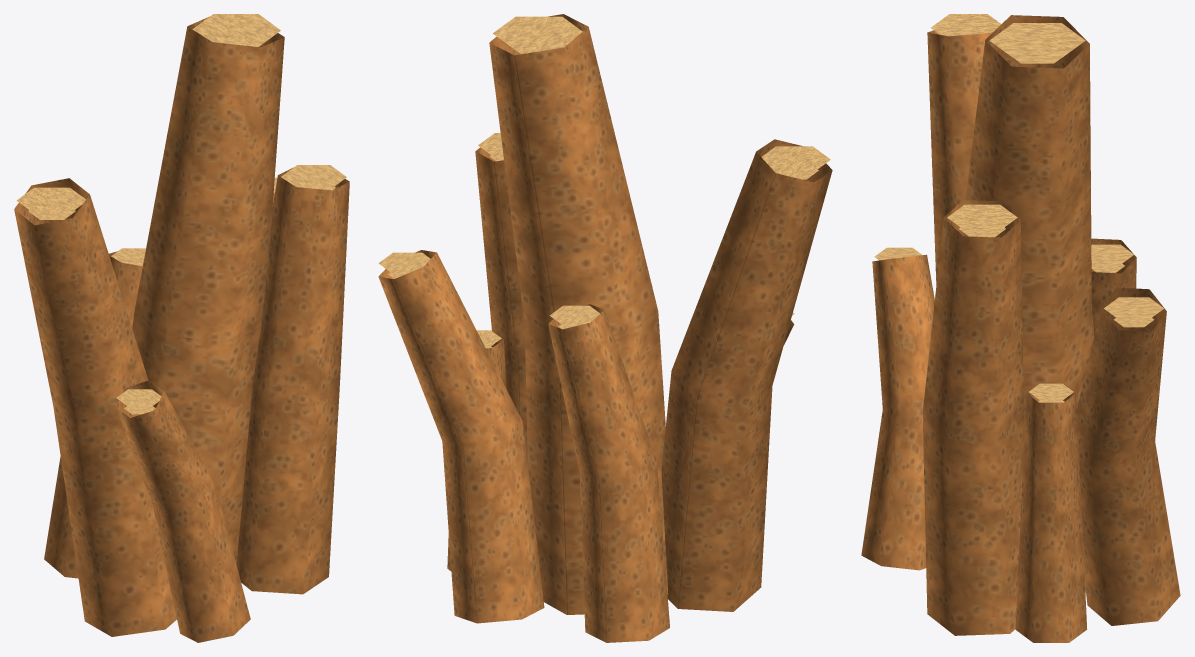
File: plant_shallows_sponge_tube_a_lod2.glb
3 views of the same model, side by side, from view 1: azimuth 30°, elevation 25°; view 2: azimuth 150°, elevation 25°; view 3: azimuth 270°, elevation 25° (orthographic). The views are drawn at different scales.
Visible parts, largest first — view 1: plant_shallows_sponge_tube_a; view 2: plant_shallows_sponge_tube_a; view 3: plant_shallows_sponge_tube_a.
Part boxes in pixels (bbox=[...]): plant_shallows_sponge_tube_a: bbox=[14, 14, 349, 642]; plant_shallows_sponge_tube_a: bbox=[378, 14, 832, 642]; plant_shallows_sponge_tube_a: bbox=[861, 14, 1180, 642].
Bounding box in the file's own units: 0.3126 × 0.4633 × 0.2316.
1 material, 1 textured.
